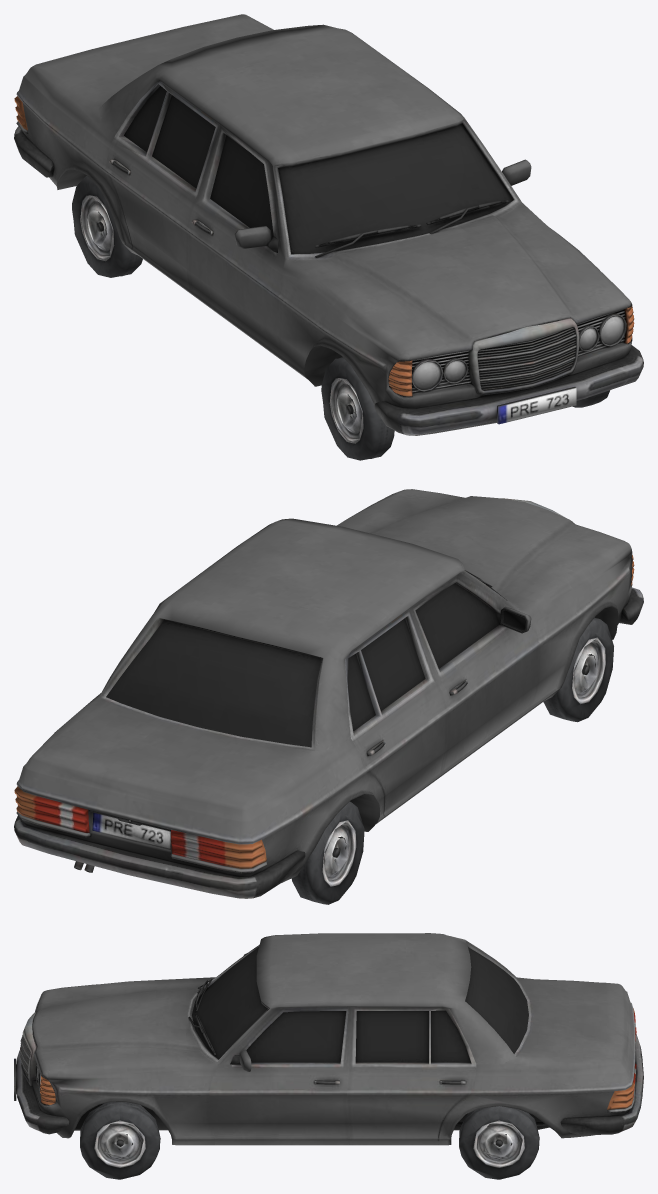
File: mercedes-w123.glb
3 renders of one model, top to bottom at view 1: azimuth 30°, elevation 25°; view 2: azimuth 150°, elevation 25°; view 3: azimuth 270°, elevation 25°, orthographic. The views are drawn at different scales.
Visible parts, largest first — view 1: m123, car wheel 4.001_0, car wheel 4.002_0; view 2: m123, car wheel 4.002_0, car wheel 4.001_0; view 3: m123, car wheel 4.392_0, car wheel 4.000_0.
Boxes of the visible parts, <box> form: m123: <box>14,14,643,435</box>; car wheel 4.001_0: <box>321,357,394,460</box>; car wheel 4.002_0: <box>72,176,142,277</box>; m123: <box>14,489,643,898</box>; car wheel 4.002_0: <box>291,801,364,904</box>; car wheel 4.001_0: <box>543,617,613,722</box>; m123: <box>14,933,643,1146</box>; car wheel 4.392_0: <box>80,1101,160,1179</box>; car wheel 4.000_0: <box>459,1106,539,1179</box>.
Bounding box in the file's own units: 1.96 × 1.46 × 4.79.
2 materials, 2 textured.
